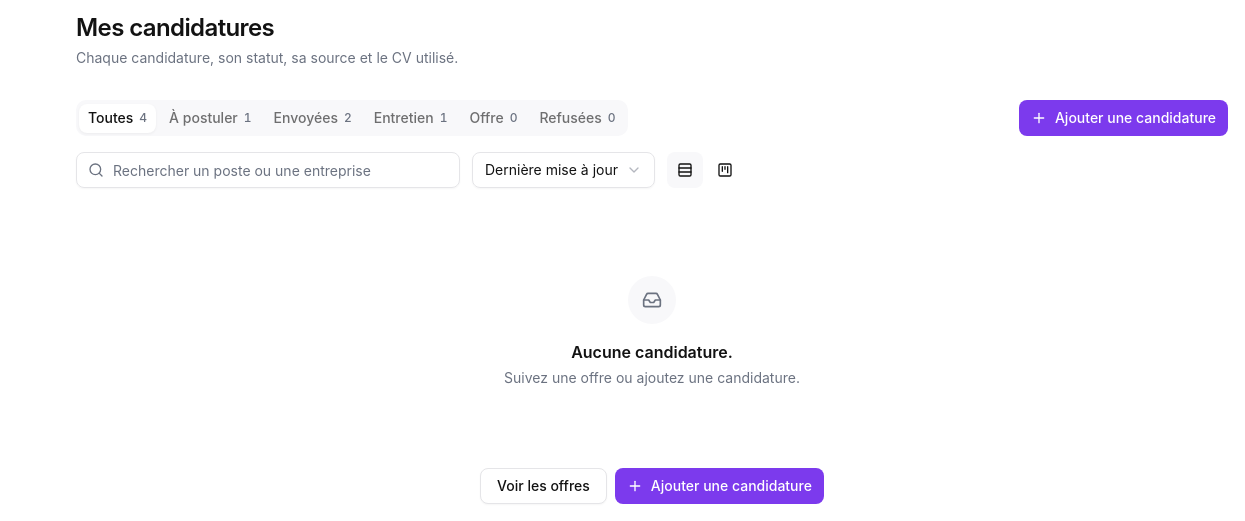
it: ApplicationsPage › bascule vers la vue Kanban et l_ecrit dans l_URL
Click the button named "Vue Kanban" at coordinates (725, 170), box [707,152,743,188]
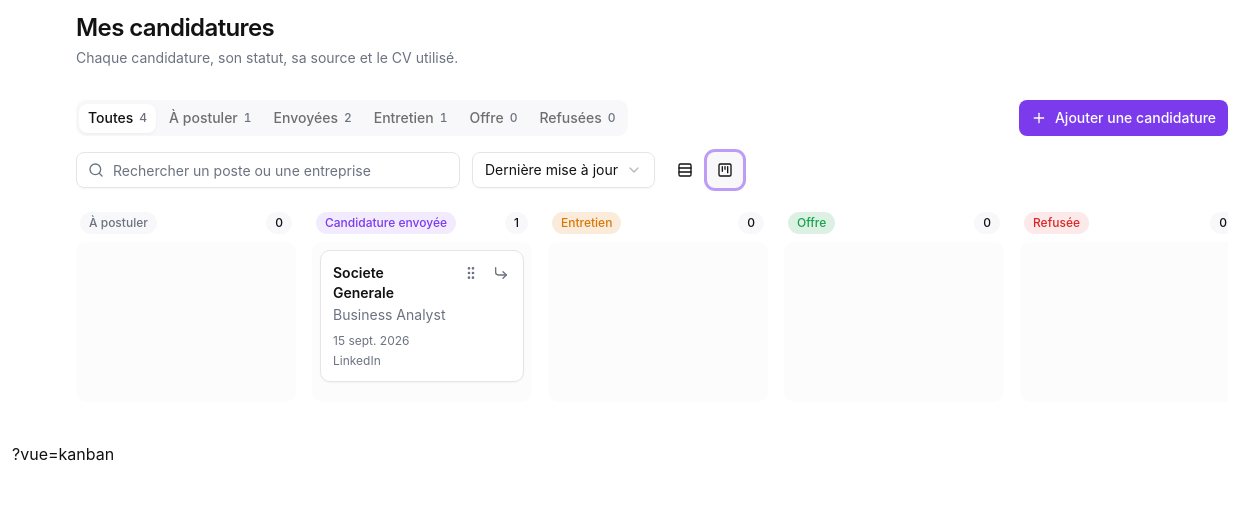
Check: the text with test id "search" reads "?vue=kanban", box [12,444,114,464]
Check: the text "Societe Generale" is shown, box [333,264,394,301]
